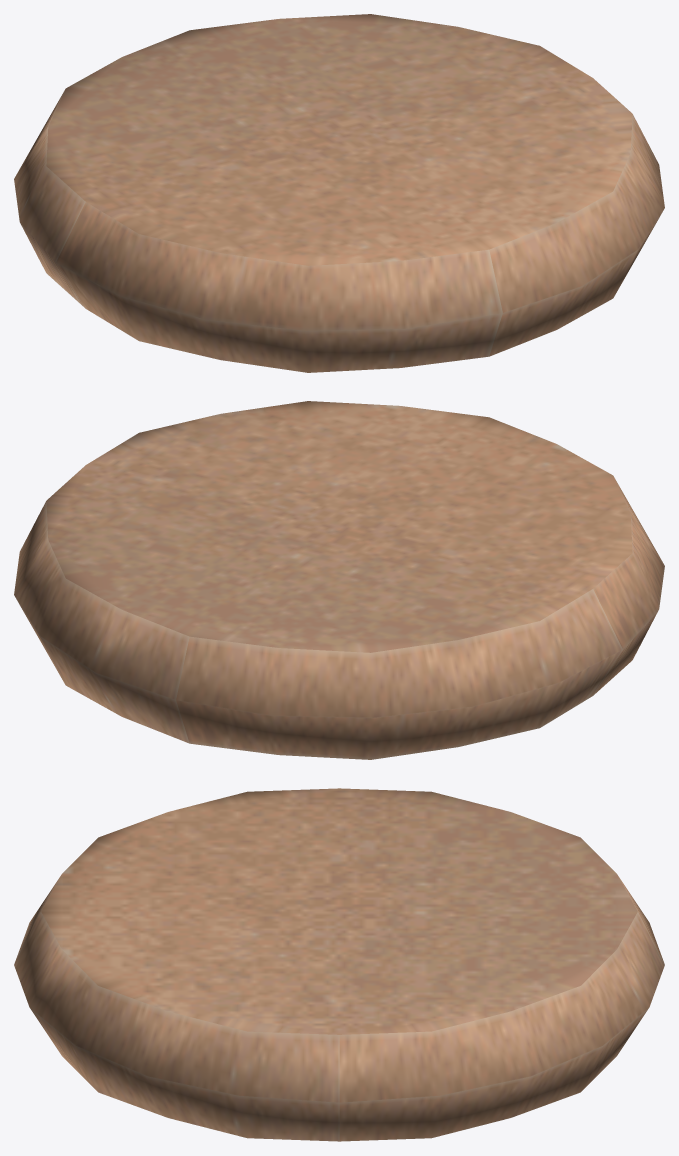
Rendered from No cocinada.obj.
3 renders of one model, top to bottom at view 1: azimuth 30°, elevation 25°; view 2: azimuth 150°, elevation 25°; view 3: azimuth 270°, elevation 25°, orthographic.
Parts seen in each view (by area): view 1: No_cocinada:pCylinder3; view 2: No_cocinada:pCylinder3; view 3: No_cocinada:pCylinder3.
Boxes of the visible parts, x1,y1,x2,y2 form: No_cocinada:pCylinder3: (14,14,664,372); No_cocinada:pCylinder3: (14,401,664,759); No_cocinada:pCylinder3: (14,788,664,1141).
Bounding box in the file's own units: 0.0653 × 0.0138 × 0.0652.
1 material, 1 textured.
